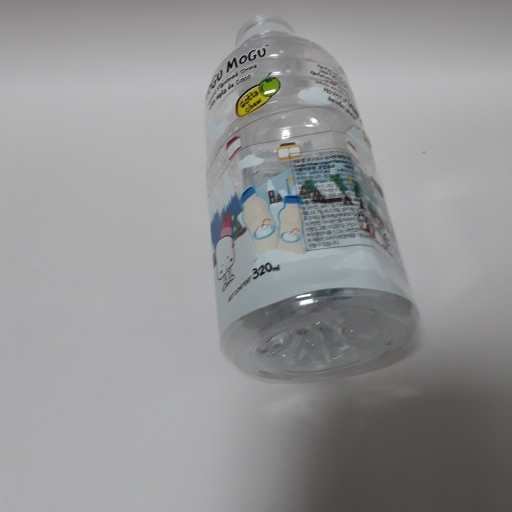Plastic_0: (201, 12, 418, 378)
